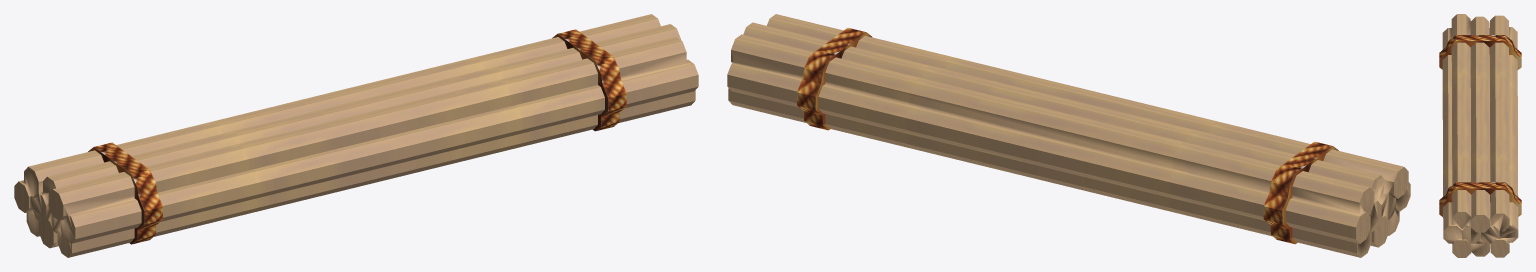
File: DJG_BoundSturdyStick10.fbx
The picture shows the model from 3 angles, left to right: view 1: azimuth 30°, elevation 25°; view 2: azimuth 150°, elevation 25°; view 3: azimuth 270°, elevation 25°; orthographic projection. The views are drawn at different scales.
Visible parts, largest first — view 1: BOUND10; view 2: BOUND10; view 3: BOUND10.
Boxes of the visible parts, x1=… form: BOUND10: x1=14, y1=14, x2=698, y2=257; BOUND10: x1=727, y1=14, x2=1410, y2=257; BOUND10: x1=1439, y1=14, x2=1521, y2=257.
Size of the model in its own units: 0.6746 by 0.0714 by 0.1169.
